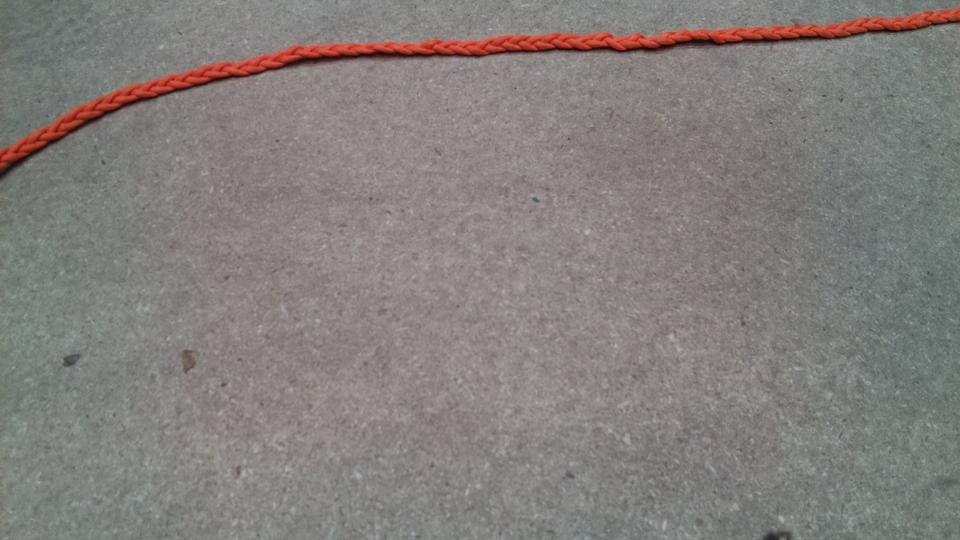rope: (1, 4, 959, 179)
